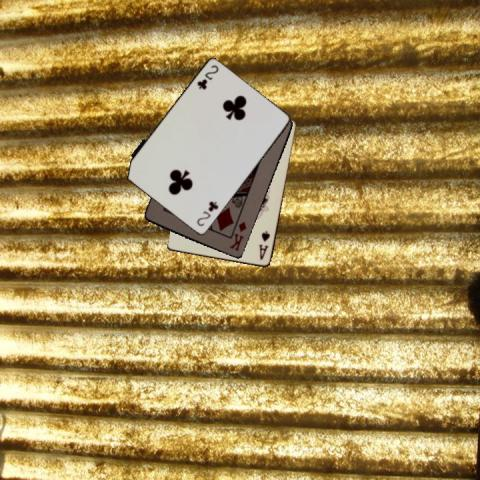2c: (194, 199, 220, 228), (194, 62, 219, 91)
As: (256, 228, 271, 261)
Kd: (227, 218, 248, 252)
